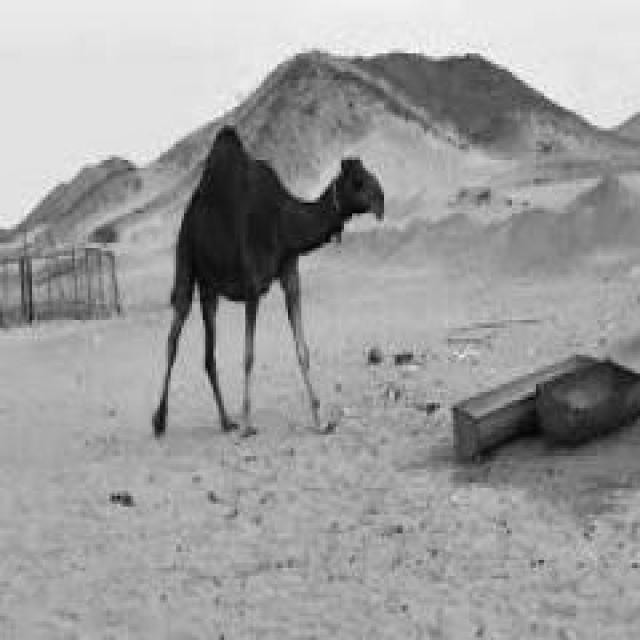Camel: (149, 123, 384, 437)
